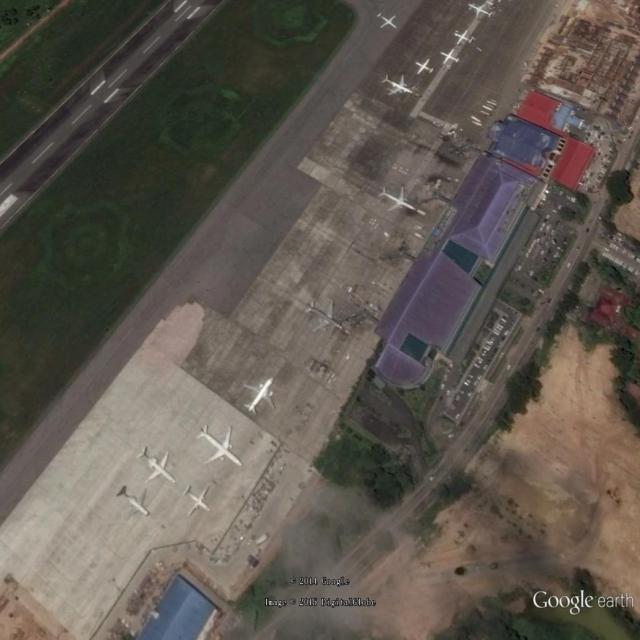aircraft: (192, 423, 247, 470), (304, 299, 356, 340), (136, 444, 179, 485), (240, 375, 279, 420), (115, 482, 154, 524), (377, 184, 419, 215), (181, 483, 215, 519), (381, 74, 416, 98), (376, 11, 398, 34), (439, 48, 462, 68), (414, 58, 436, 78), (471, 4, 495, 22), (454, 29, 473, 46), (466, 2, 479, 11)
